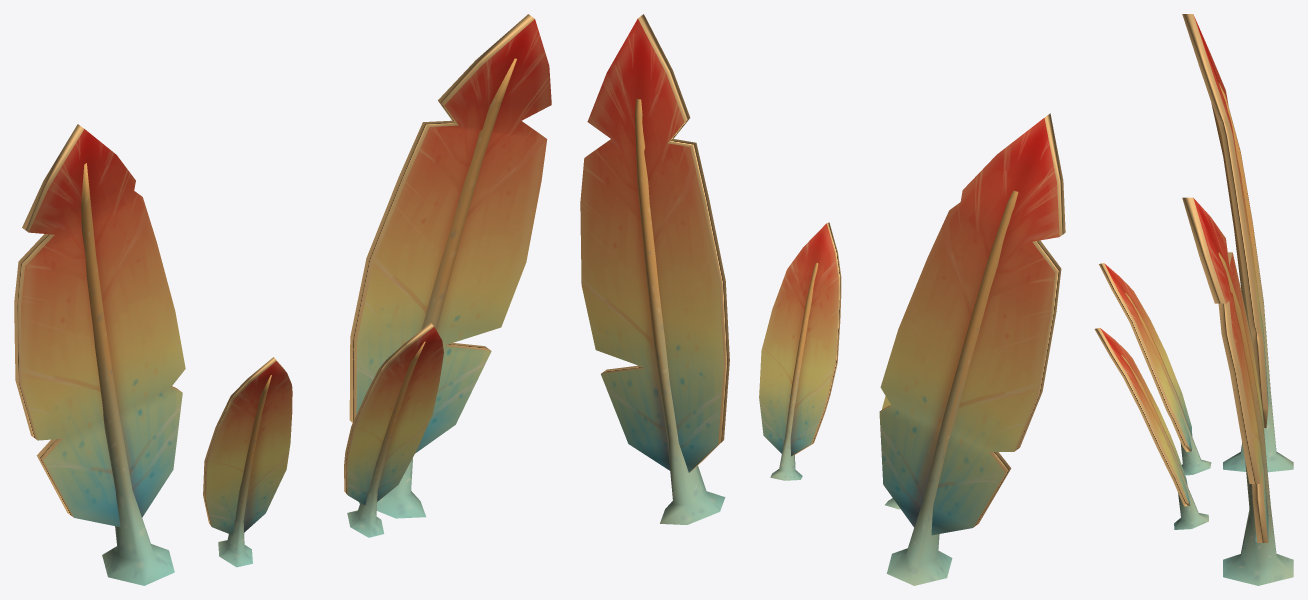
The model's file is moth ears.fbx.
3 views of the same model, side by side, from view 1: azimuth 30°, elevation 25°; view 2: azimuth 150°, elevation 25°; view 3: azimuth 270°, elevation 25° (orthographic). The views are drawn at different scales.
Parts seen in each view (by area): view 1: moth_ears; view 2: moth_ears; view 3: moth_ears.
Boxes of the visible parts, bbox=[...] form: moth_ears: bbox=[14, 14, 551, 585]; moth_ears: bbox=[580, 14, 1065, 585]; moth_ears: bbox=[1094, 14, 1293, 585].
Size of the model in its own units: 34.11 by 13.46 by 31.06.
